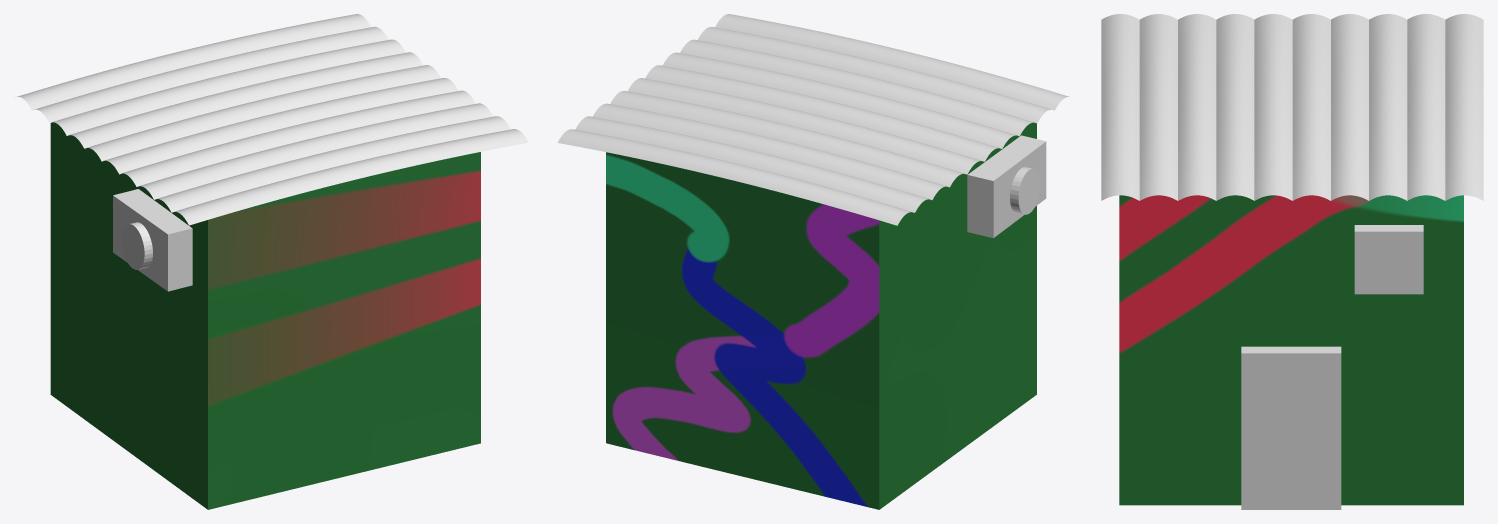
The model's file is Fabela1.fbx.
3 renders of one model, left to right at view 1: azimuth 30°, elevation 25°; view 2: azimuth 150°, elevation 25°; view 3: azimuth 270°, elevation 25°, orthographic. The views are drawn at different scales.
Visible parts, largest first — view 1: Cubo, Sup_parche, Sup_parche.003, Sup_parche.002, Sup_parche.009, Sup_parche.005, Sup_parche.006, Sup_parche.001, Sup_parche.008, Sup_parche.004, Sup_parche.007, Cubo.001 (+1 smaller); view 2: Cubo, Sup_parche.006, Sup_parche.001, Sup_parche.007, Sup_parche.008, Sup_parche.004, Sup_parche.003, Sup_parche, Sup_parche.005, Sup_parche.009, Sup_parche.002, Cubo.001 (+1 smaller); view 3: Cubo, Cubo.002, Sup_parche.005, Sup_parche, Sup_parche.001, Sup_parche.002, Sup_parche.003, Sup_parche.004, Sup_parche.006, Sup_parche.007, Sup_parche.009, Sup_parche.008 (+1 smaller).
Part boxes in pixels (bbox=[...]): Cubo: bbox=[50, 122, 480, 509]; Sup_parche: bbox=[174, 129, 528, 225]; Sup_parche.003: bbox=[139, 103, 492, 199]; Sup_parche.002: bbox=[122, 90, 475, 186]; Sup_parche.009: bbox=[52, 39, 405, 135]; Sup_parche.005: bbox=[87, 65, 440, 161]; Sup_parche.006: bbox=[17, 14, 370, 110]; Sup_parche.001: bbox=[157, 116, 510, 212]; Sup_parche.008: bbox=[69, 52, 423, 148]; Sup_parche.004: bbox=[105, 78, 458, 174]; Sup_parche.007: bbox=[35, 26, 388, 123]; Cubo.001: bbox=[113, 189, 192, 291]; Cubo: bbox=[606, 122, 1036, 509]; Sup_parche.006: bbox=[557, 129, 912, 225]; Sup_parche.001: bbox=[698, 27, 1051, 123]; Sup_parche.007: bbox=[575, 116, 929, 212]; Sup_parche.008: bbox=[610, 91, 963, 187]; Sup_parche.004: bbox=[645, 65, 999, 161]; Sup_parche.003: bbox=[680, 39, 1034, 136]; Sup_parche: bbox=[715, 14, 1069, 110]; Sup_parche.005: bbox=[628, 78, 981, 174]; Sup_parche.009: bbox=[593, 103, 946, 199]; Sup_parche.002: bbox=[662, 52, 1017, 148]; Cubo.001: bbox=[967, 135, 1046, 238]; Cubo: bbox=[1119, 195, 1463, 505]; Cubo.002: bbox=[1241, 346, 1341, 509]; Sup_parche.005: bbox=[1292, 14, 1330, 200]; Sup_parche: bbox=[1101, 14, 1139, 200]; Sup_parche.001: bbox=[1139, 14, 1177, 200]; Sup_parche.002: bbox=[1216, 14, 1254, 200]; Sup_parche.003: bbox=[1178, 14, 1216, 200]; Sup_parche.004: bbox=[1254, 14, 1292, 200]; Sup_parche.006: bbox=[1445, 14, 1483, 200]; Sup_parche.007: bbox=[1407, 14, 1445, 200]; Sup_parche.009: bbox=[1369, 14, 1407, 200]; Sup_parche.008: bbox=[1331, 14, 1368, 200].
Size of the model in its own units: 1270 by 1080 by 1109.
1 material, 1 textured.
